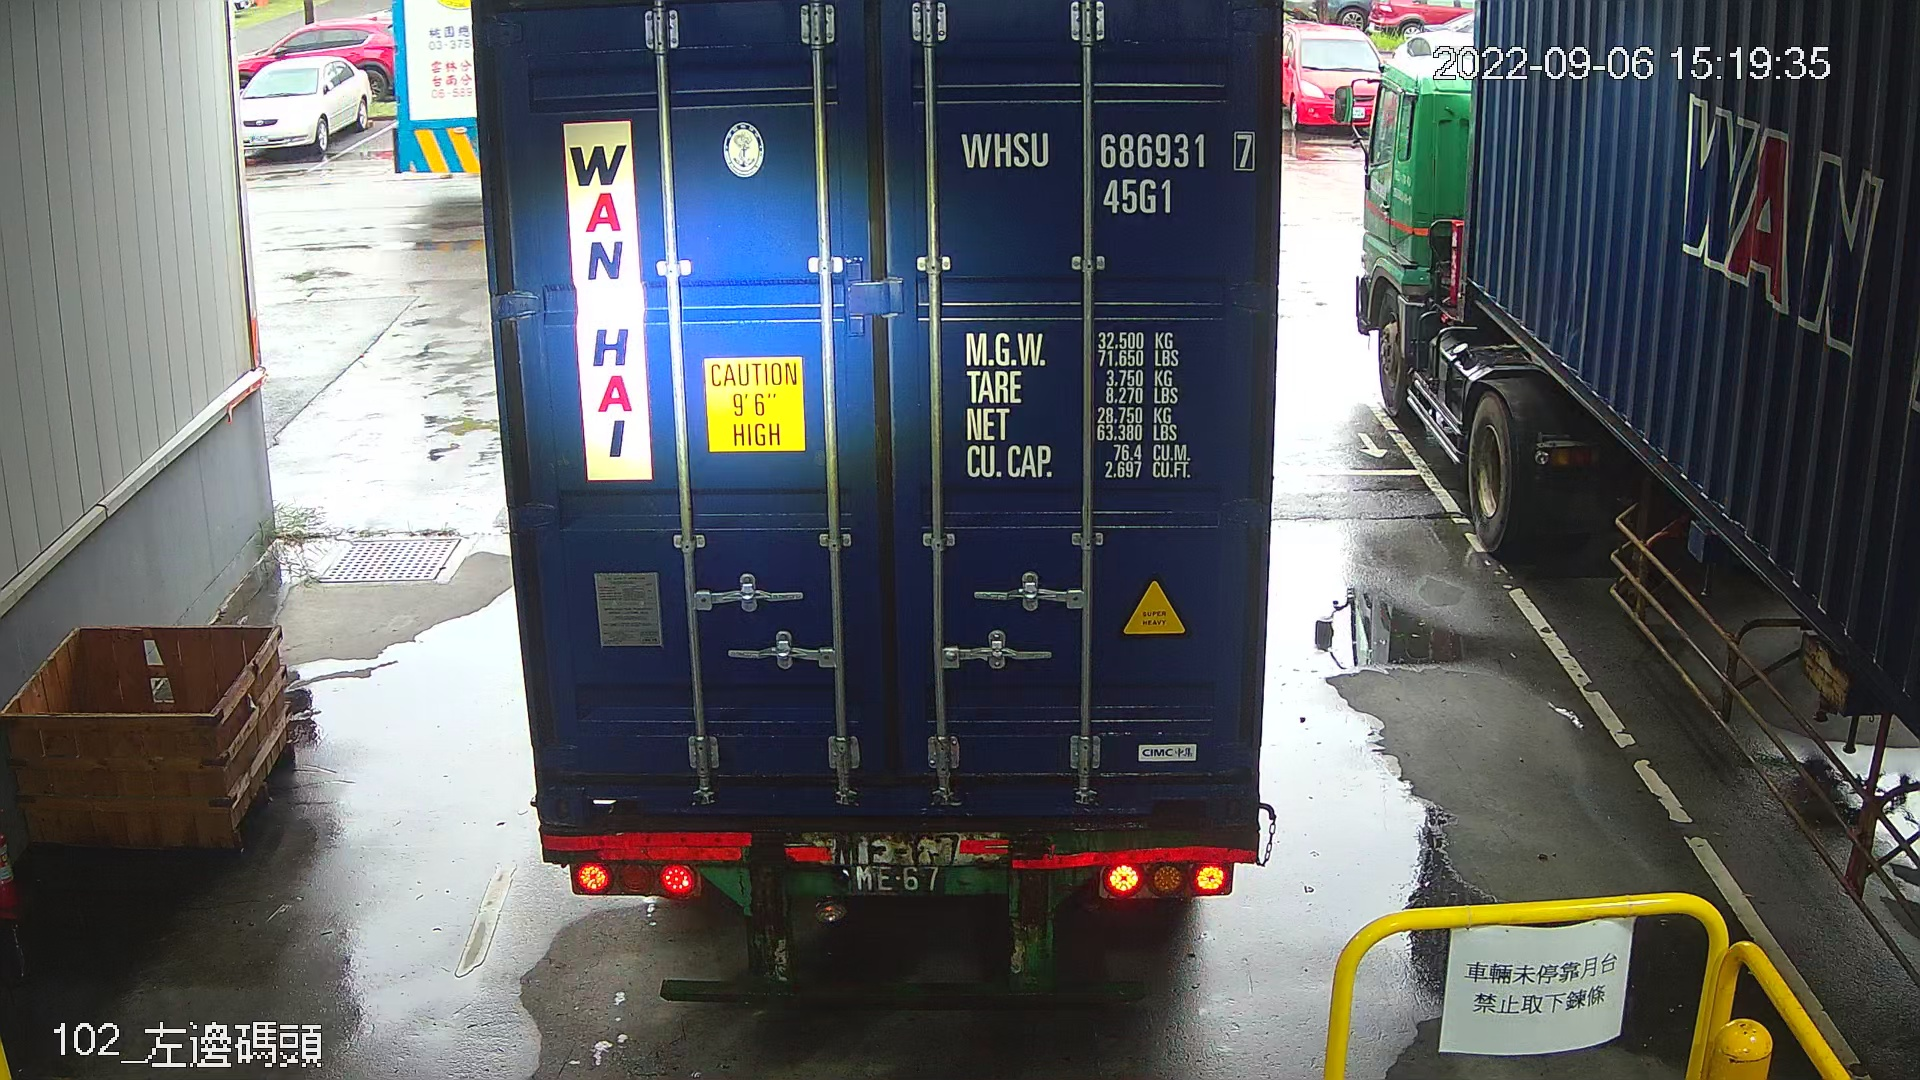container: (942, 117, 1270, 222)
